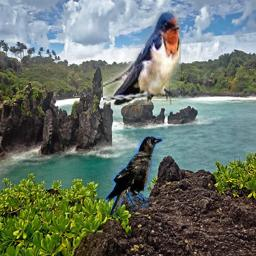Crow: (105, 134, 166, 216)
Swallow: (103, 12, 181, 105)
